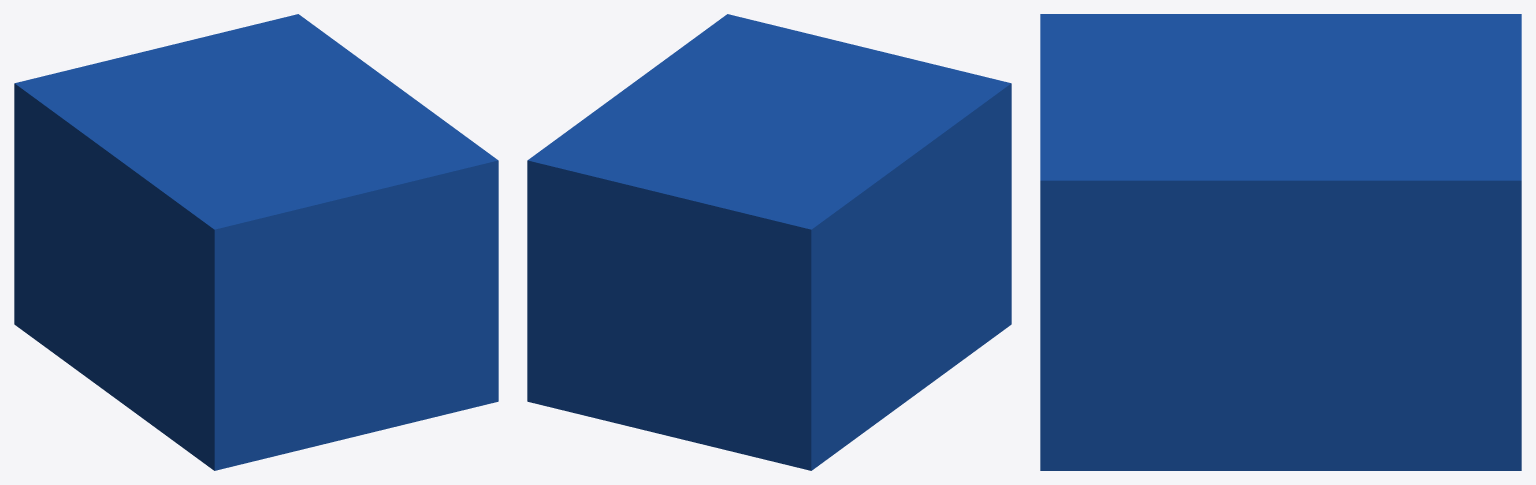
The model's file is SciFi_security_cam.DAE.
The picture shows the model from 3 angles, left to right: view 1: azimuth 30°, elevation 25°; view 2: azimuth 150°, elevation 25°; view 3: azimuth 270°, elevation 25°; orthographic projection. The views are drawn at different scales.
Visible parts, largest first — view 1: bounds; view 2: bounds; view 3: bounds.
Part boxes in pixels (x1,y1,x2,y2): bounds: (14, 14, 498, 470); bounds: (527, 14, 1011, 470); bounds: (1040, 14, 1521, 470).
Bounding box in the file's own units: 38.5 × 46.97 × 31.26.
